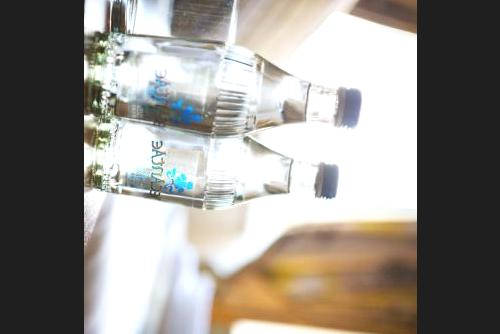bottle: (91, 21, 367, 142), (84, 103, 345, 221)
